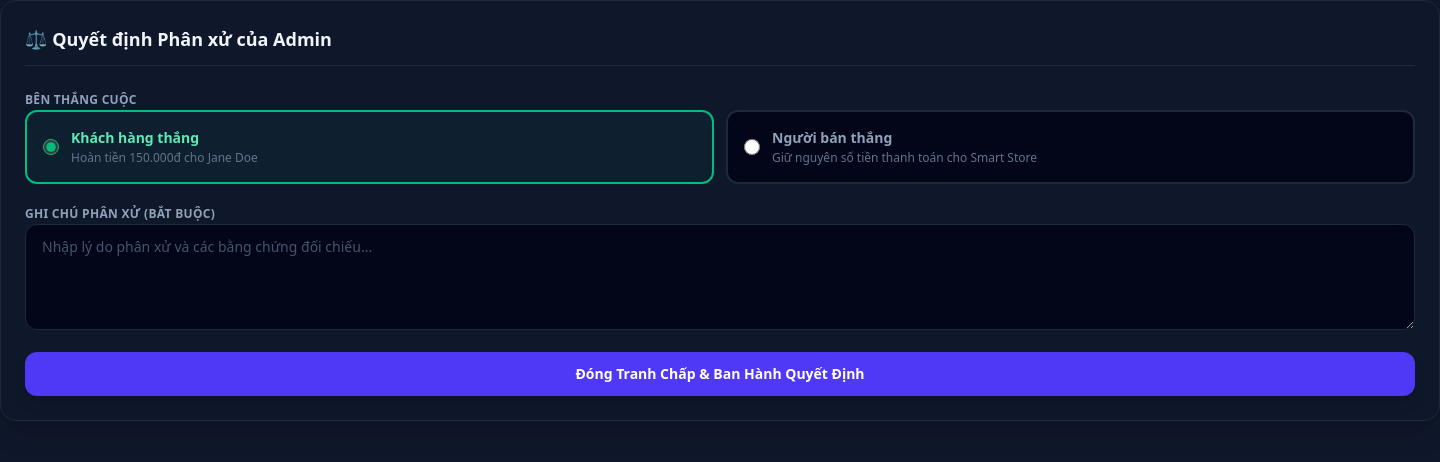
Test case: ResolutionForm React Component › should display error message when trying to submit without admin notes
Click the button "Đóng Tranh Chấp & Ban Hành Quyết Định": {"x": 720, "y": 374} [25,352,1415,396]
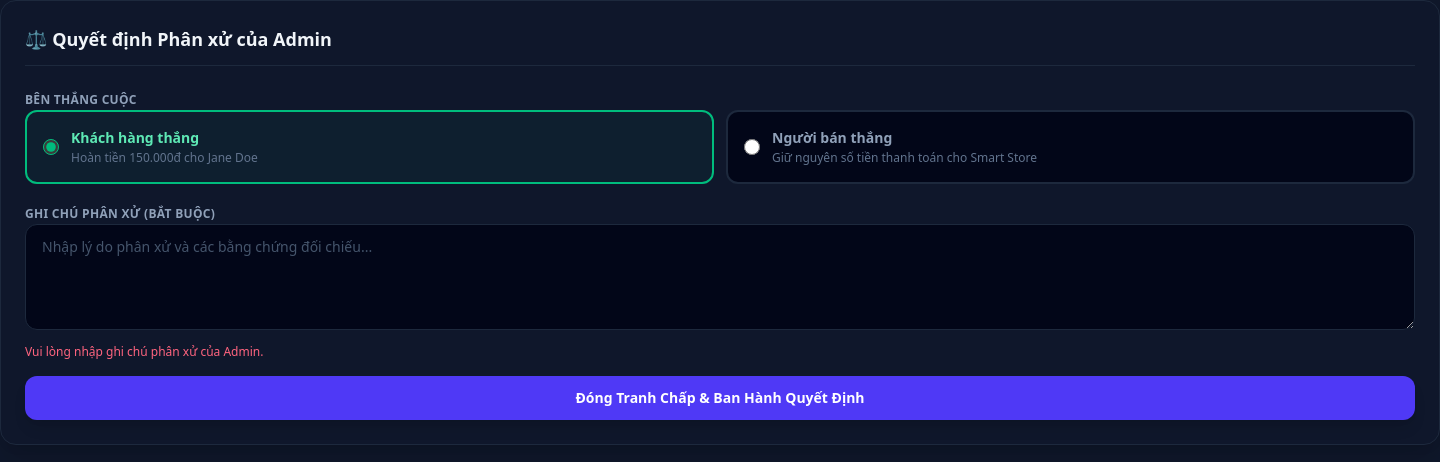
Result: the text "Vui lòng nhập ghi chú phân xử của Admin." is shown at [25,343,263,360]
